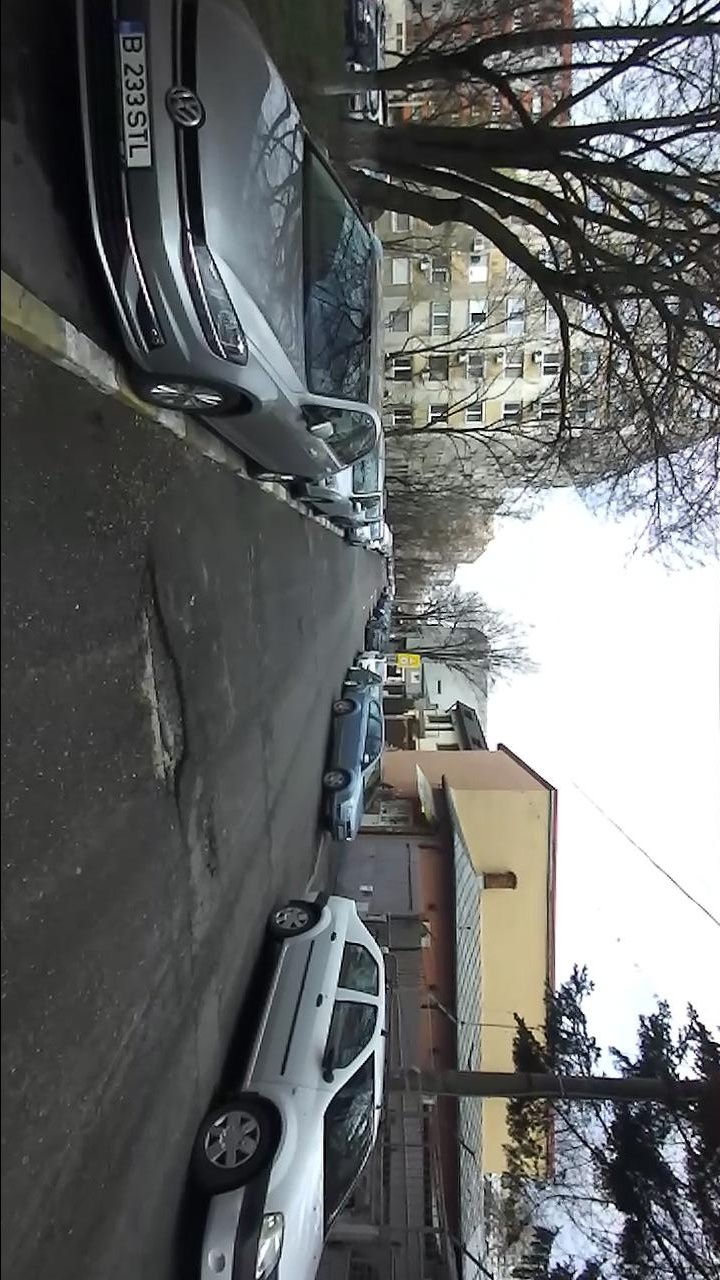pothole: (134, 537, 193, 842), (199, 797, 229, 883)
